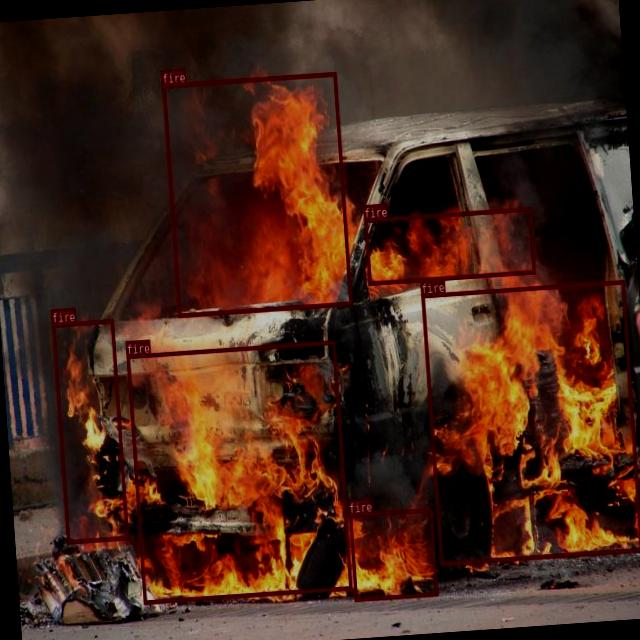fire: (420, 279, 640, 564), (126, 340, 352, 603), (162, 71, 352, 316), (51, 318, 128, 543), (363, 207, 534, 284), (348, 507, 437, 601)
